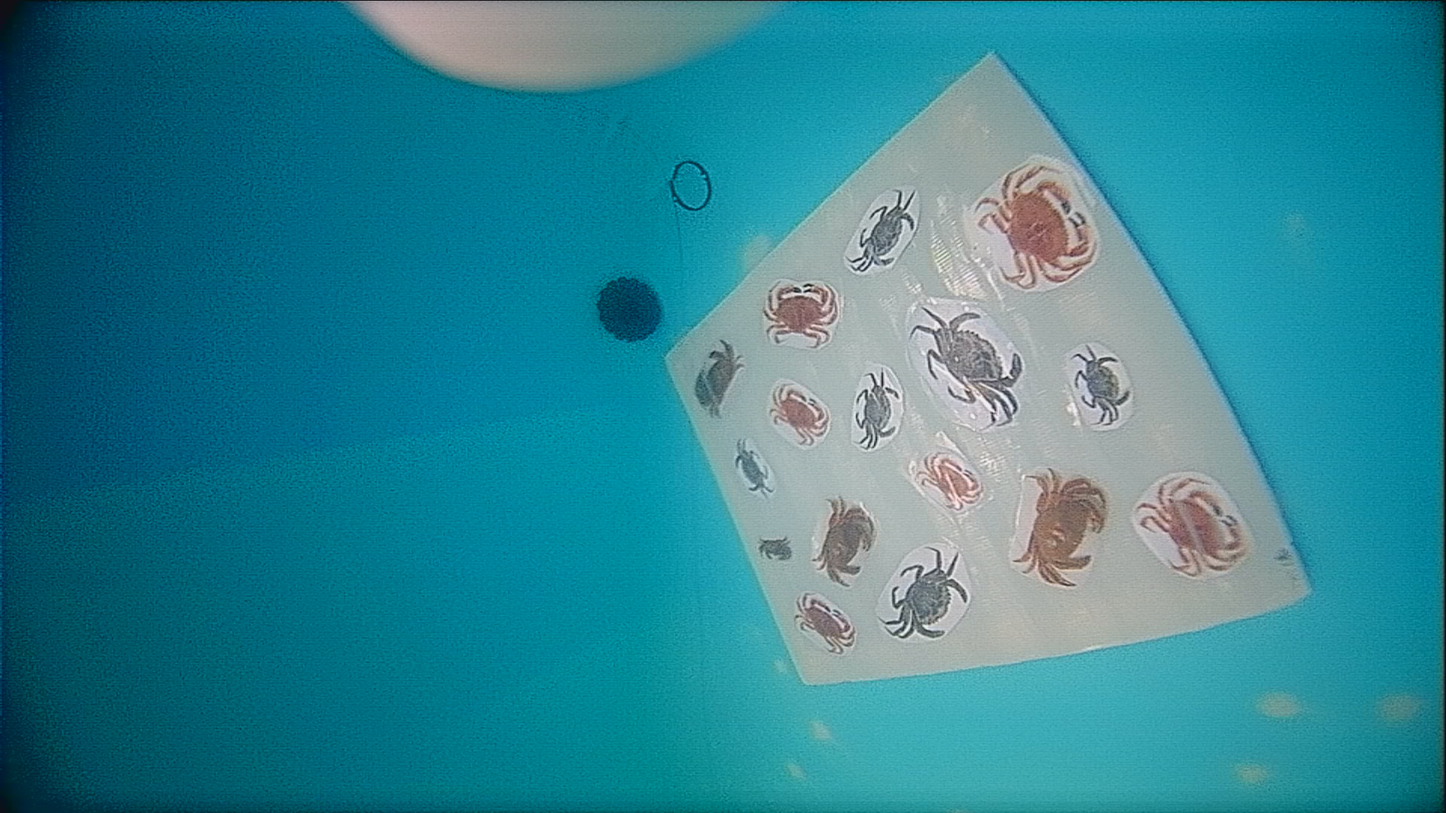GreenCrab: (911, 308, 1021, 425), (884, 548, 967, 638), (846, 190, 914, 273), (1074, 345, 1129, 425), (857, 373, 898, 449)
